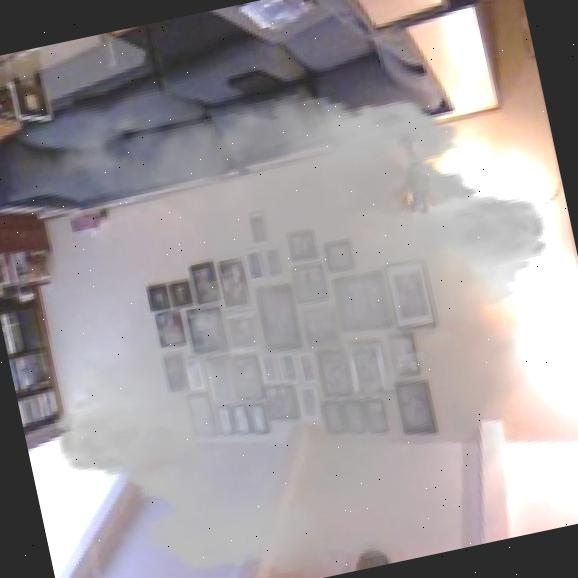smoke: (0, 8, 578, 578)
